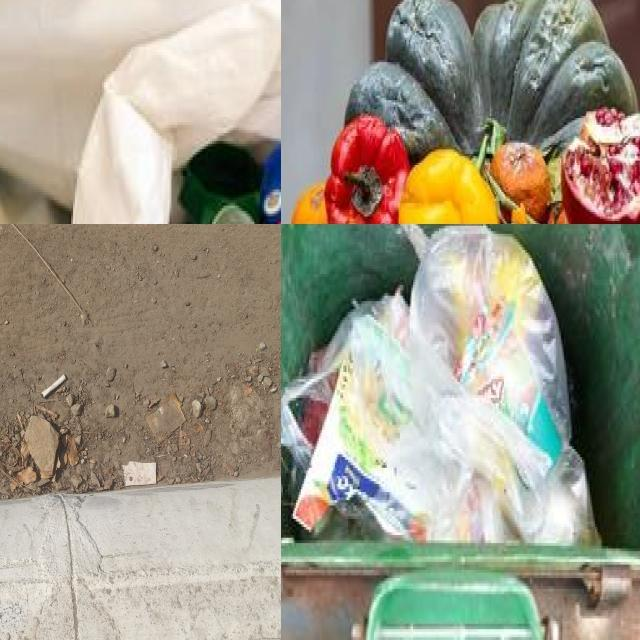Background: (0, 224, 281, 640)
Cig_bud: (41, 374, 66, 399)
Garbage: (281, 224, 602, 546), (288, 0, 640, 224)
Plastic_Bag: (281, 225, 598, 544)
Plastic_wraper: (146, 394, 185, 443)
contaminated_waste: (281, 224, 600, 547)
top_view_waste: (281, 224, 640, 568)
